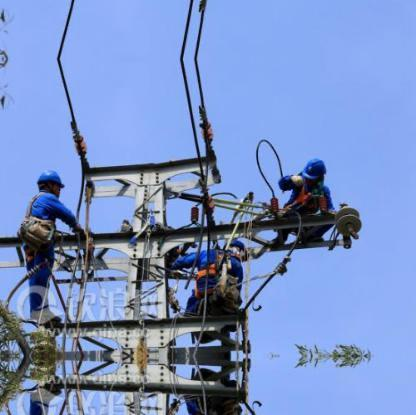helmet: (30, 163, 66, 191), (218, 229, 250, 257), (303, 154, 328, 182)
